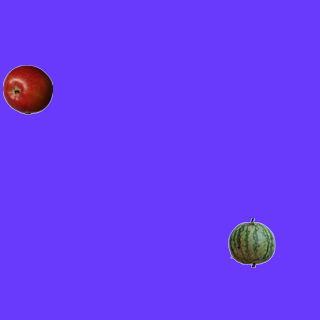Apple Braeburn: (2, 64, 52, 114)
Watermelon: (226, 217, 276, 267)
